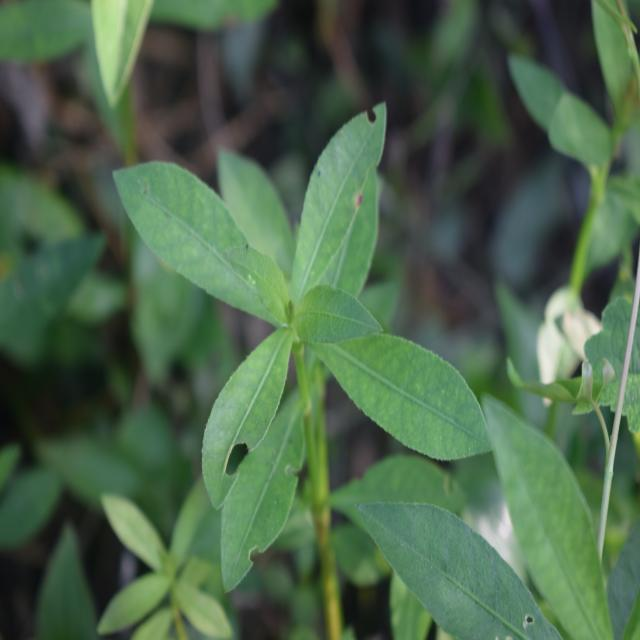Alligatorweed: (112, 103, 490, 537)
